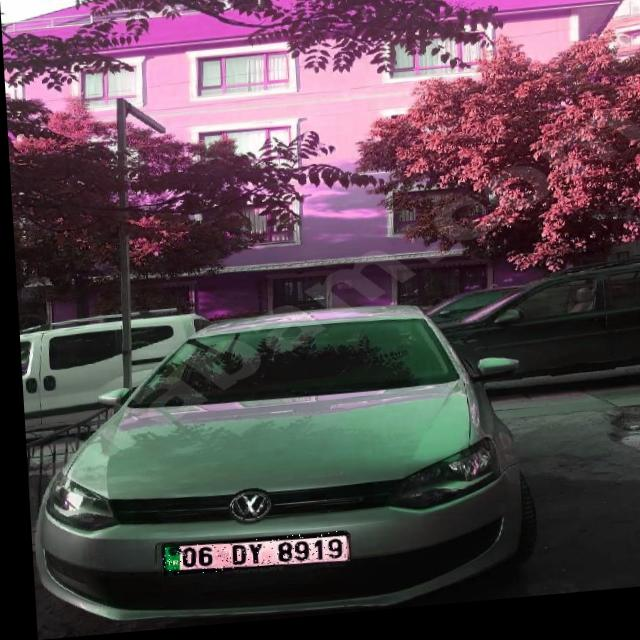license_plate: (155, 536, 341, 579)
